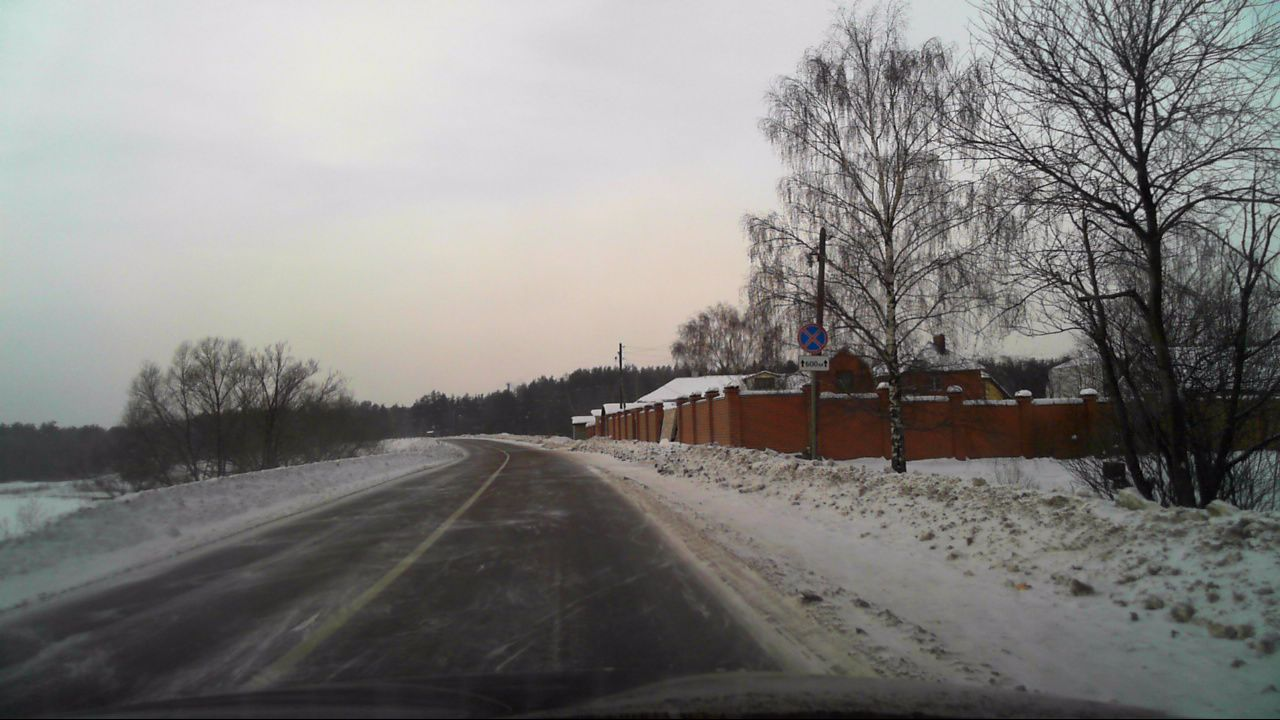No Parking: (798, 323, 827, 352)
